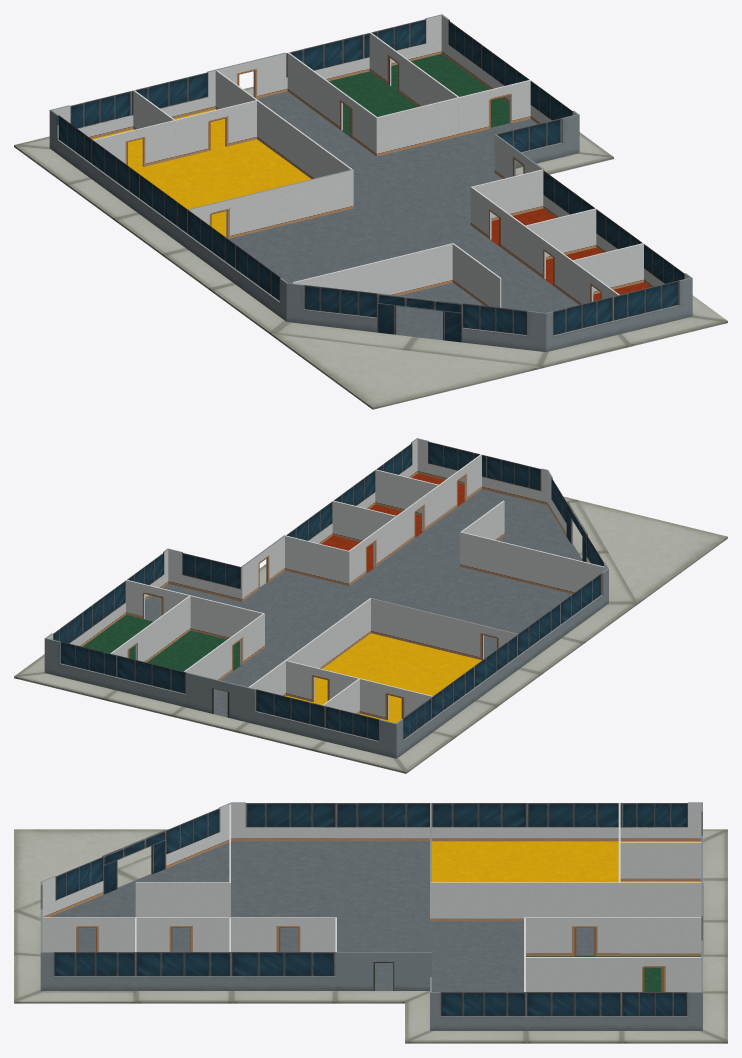
Rendered from office1.fbx.
The picture shows the model from 3 angles, top to bottom: view 1: azimuth 30°, elevation 25°; view 2: azimuth 150°, elevation 25°; view 3: azimuth 270°, elevation 25°; orthographic projection. The views are drawn at different scales.
Parts seen in each view (by area): view 1: floor, windows_PASS1, outsidewall, insidewall3, insidewall4, insidewall2, concretefiller, insidewall1; view 2: floor, windows_PASS1, outsidewall, insidewall3, insidewall2, insidewall4, concretefiller, insidewall1; view 3: floor, windows_PASS1, outsidewall, insidewall3, insidewall4, insidewall2, concretefiller, insidewall1.
Boxes of the visible parts, x1,y1,x2,y2 form: floor: [14, 54, 727, 368]; windows_PASS1: [59, 19, 684, 335]; outsidewall: [49, 14, 692, 352]; insidewall3: [93, 70, 353, 238]; insidewall4: [287, 32, 530, 156]; insidewall2: [470, 169, 643, 304]; concretefiller: [272, 334, 539, 409]; insidewall1: [293, 243, 501, 307]; floor: [14, 473, 637, 773]; windows_PASS1: [53, 441, 603, 740]; outsidewall: [44, 438, 608, 758]; insidewall3: [248, 598, 517, 720]; insidewall2: [285, 454, 481, 586]; insidewall4: [110, 580, 264, 680]; concretefiller: [579, 500, 727, 603]; insidewall1: [460, 500, 604, 593]; floor: [14, 829, 727, 1043]; windows_PASS1: [54, 803, 687, 1016]; outsidewall: [40, 802, 703, 1030]; insidewall3: [430, 803, 701, 921]; insidewall4: [524, 917, 701, 991]; insidewall2: [42, 917, 336, 951]; concretefiller: [14, 829, 167, 909]; insidewall1: [135, 805, 230, 917].
Size of the model in its own units: 3441 by 305 by 4887.
